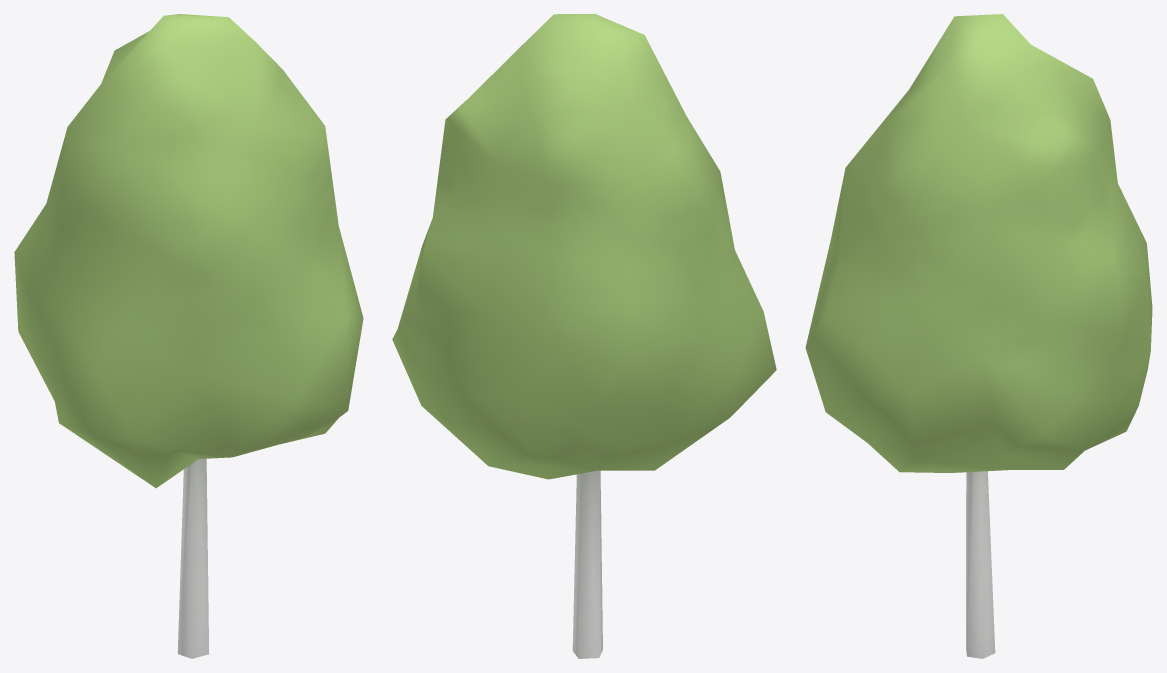
The picture shows the model from 3 angles, left to right: view 1: azimuth 30°, elevation 25°; view 2: azimuth 150°, elevation 25°; view 3: azimuth 270°, elevation 25°; orthographic projection.
Visible parts, largest first — view 1: Berez; view 2: Berez; view 3: Berez.
Part boxes in pixels (<box>): Berez: <box>14,14,363,658</box>; Berez: <box>392,14,776,658</box>; Berez: <box>805,14,1152,658</box>.
Size of the model in its own units: 10.18 by 20 by 9.99.
1 material, 1 textured.
